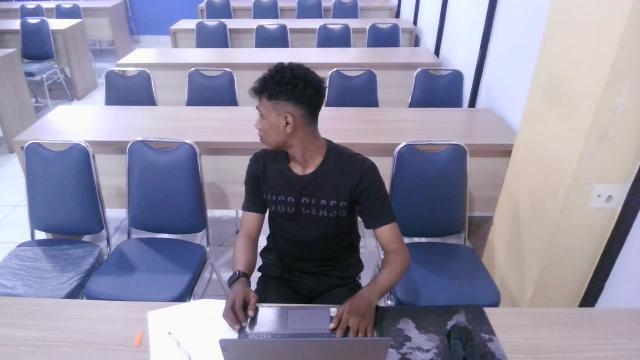Turning_Back: (221, 54, 410, 277)
